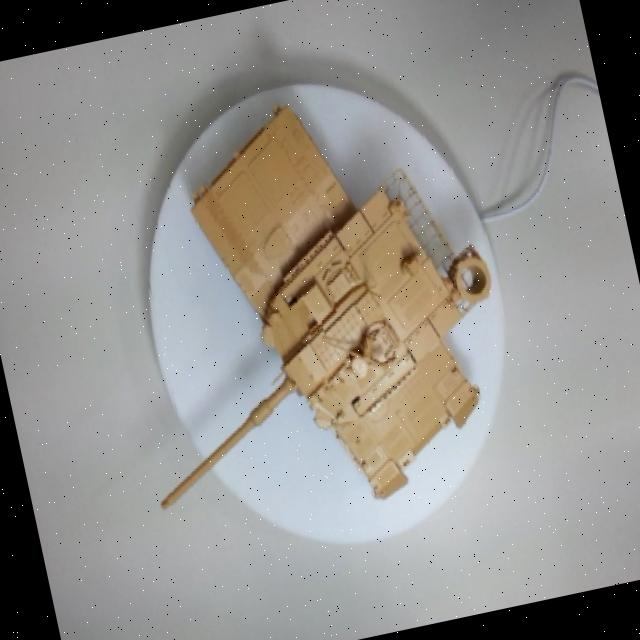korea tank: (33, 77, 536, 586)
